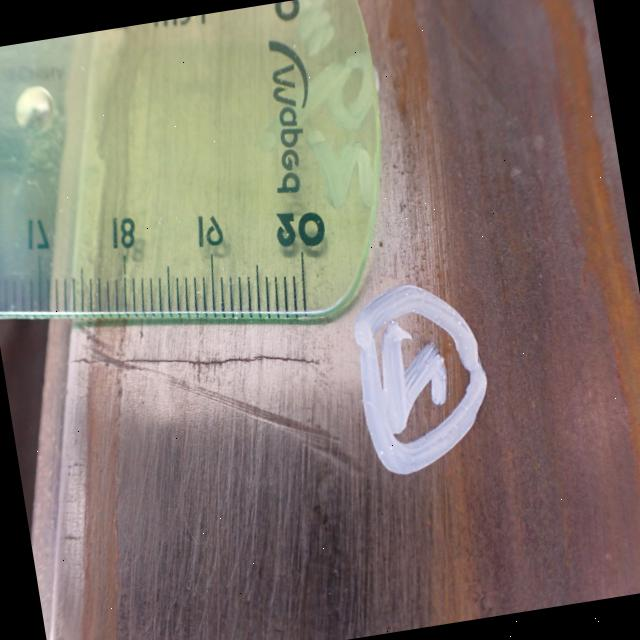Brake_Thermal_Cracks: (65, 323, 331, 414)
